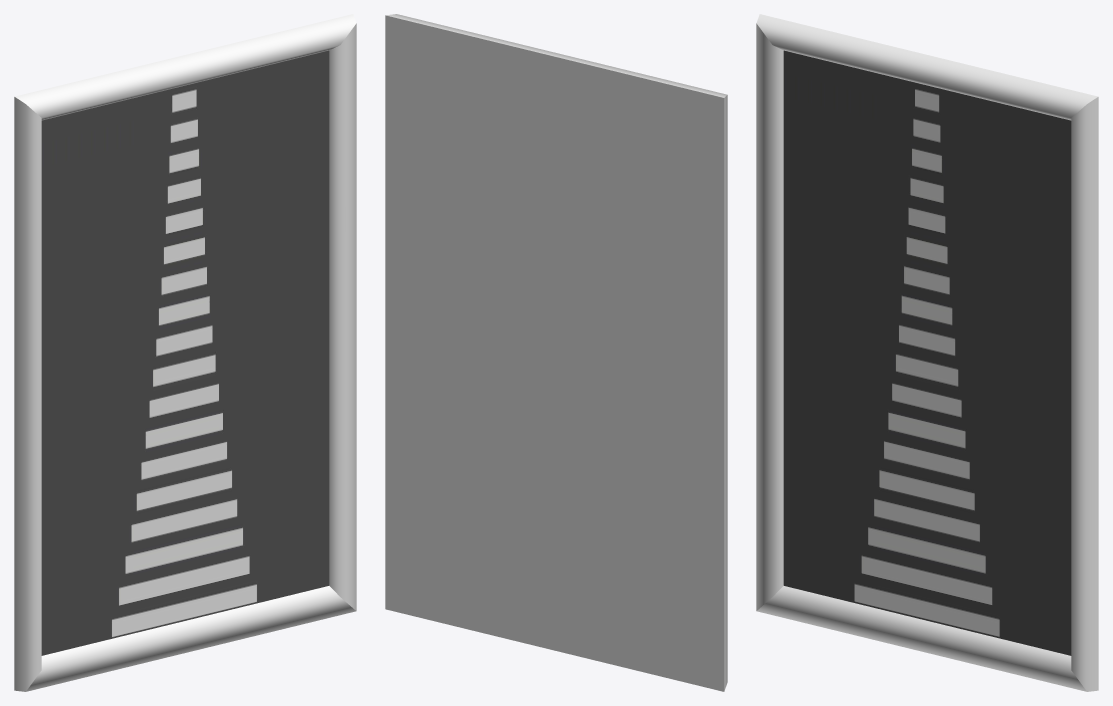
The model's file is picture_013.fbx.
3 views of the same model, side by side, from view 1: azimuth 30°, elevation 25°; view 2: azimuth 150°, elevation 25°; view 3: azimuth 330°, elevation 25° (orthographic).
Parts seen in each view (by area): view 1: picture_013; view 2: picture_013; view 3: picture_013.
Boxes of the visible parts, x1,y1,x2,y2 form: picture_013: (14,14,356,691); picture_013: (385,14,727,691); picture_013: (756,14,1098,691).
Size of the model in its own units: 53.56 by 1.99 by 89.74.
